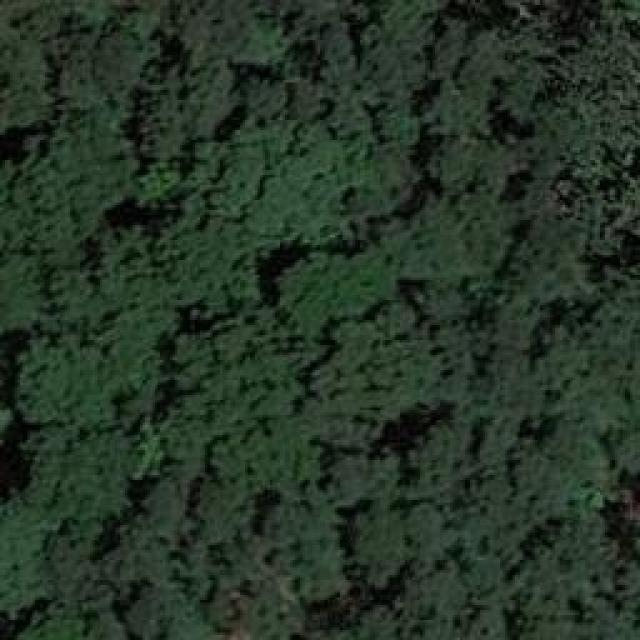Forest: (0, 2, 638, 640)
